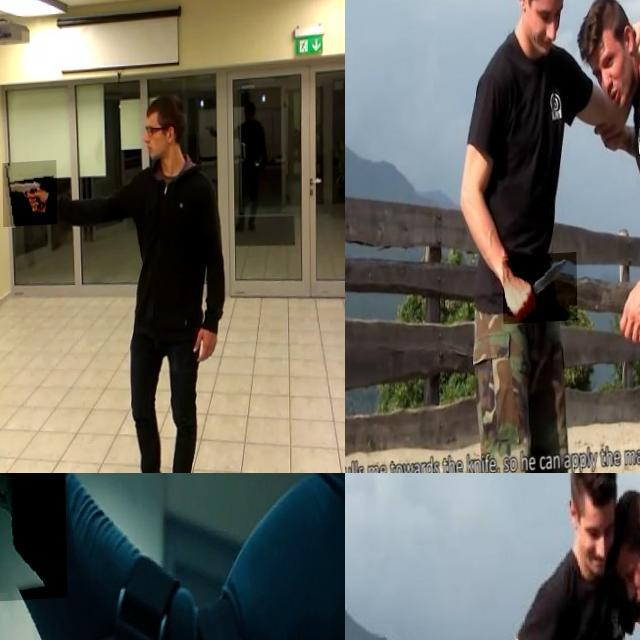-: (502, 256, 576, 328)
gun-knife-thesis - v11 Yolov5 augmented: (0, 473, 110, 640), (2, 162, 57, 229)
